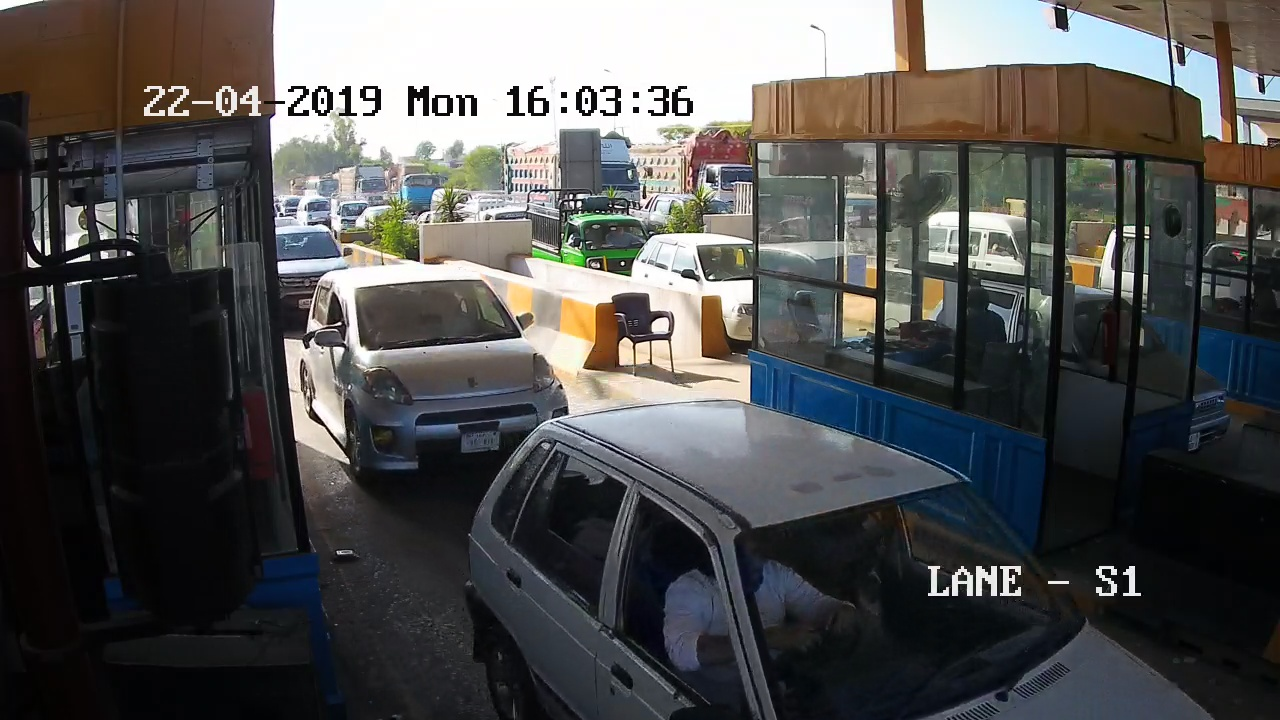Number Plate (Car): (462, 431, 500, 451)
